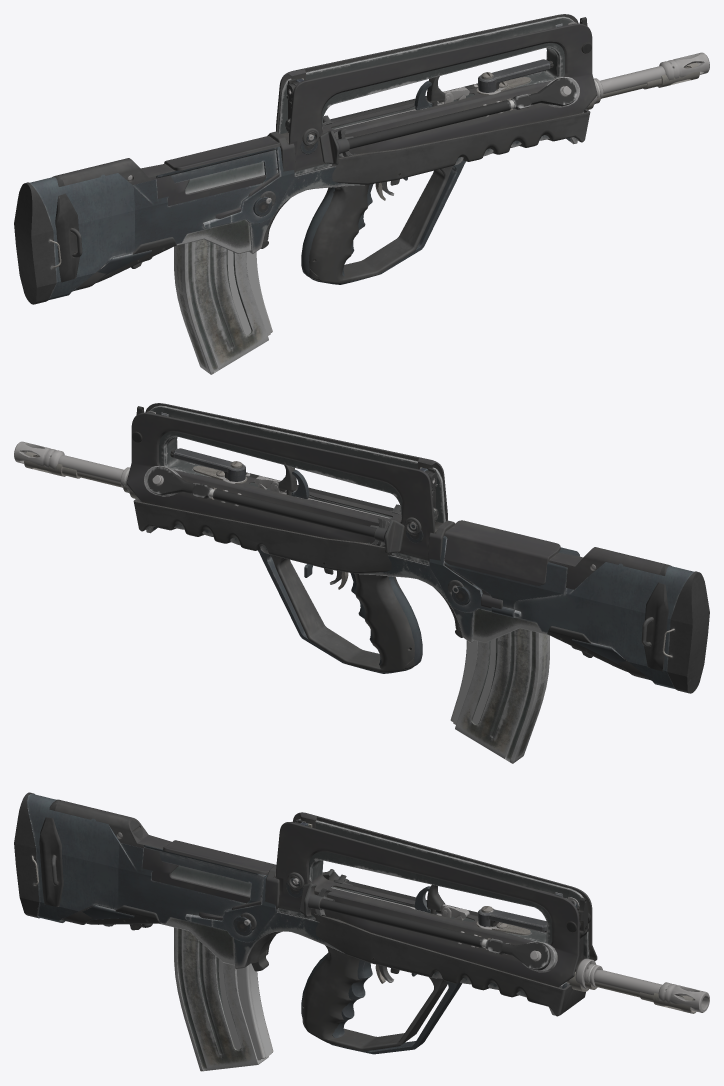
The model's file is weapon_famas.glb.
The picture shows the model from 3 angles, top to bottom: view 1: azimuth 30°, elevation 25°; view 2: azimuth 150°, elevation 25°; view 3: azimuth 330°, elevation 25°; orthographic projection.
Visible parts, largest first — view 1: weapons/models/famas/weapon_rif_famas.vmdl_c.body_hd, weapons/models/famas/weapon_rif_famas.vmdl_c.body_legacy; view 2: weapons/models/famas/weapon_rif_famas.vmdl_c.body_hd, weapons/models/famas/weapon_rif_famas.vmdl_c.body_legacy; view 3: weapons/models/famas/weapon_rif_famas.vmdl_c.body_hd, weapons/models/famas/weapon_rif_famas.vmdl_c.body_legacy.
Boxes of the visible parts, x1,y1,x2,y2 form: weapons/models/famas/weapon_rif_famas.vmdl_c.body_hd: (52,14,709,335); weapons/models/famas/weapon_rif_famas.vmdl_c.body_legacy: (14,16,699,374); weapons/models/famas/weapon_rif_famas.vmdl_c.body_hd: (14,403,671,724); weapons/models/famas/weapon_rif_famas.vmdl_c.body_legacy: (24,405,709,763); weapons/models/famas/weapon_rif_famas.vmdl_c.body_hd: (39,799,709,1060); weapons/models/famas/weapon_rif_famas.vmdl_c.body_legacy: (14,792,696,1071).
Bounding box in the file's own units: 35.7 × 13.61 × 3.25.
2 materials, 2 textured.
